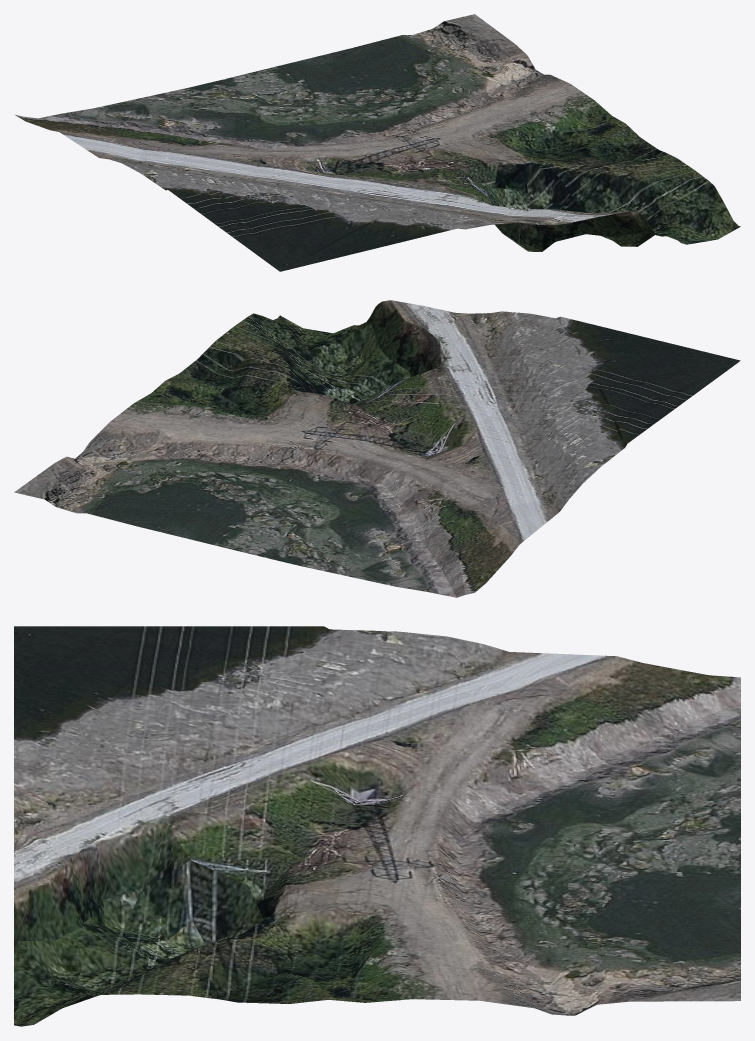
File: map_15_8177_13778.dae
3 renders of one model, top to bottom at view 1: azimuth 30°, elevation 25°; view 2: azimuth 150°, elevation 25°; view 3: azimuth 270°, elevation 25°, orthographic. The views are drawn at different scales.
Visible parts, largest first — view 1: Ter0; view 2: Ter0; view 3: Ter0.
Boxes of the visible parts, x1,y1,x2,y2 form: Ter0: (15, 14, 740, 271); Ter0: (14, 300, 740, 597); Ter0: (14, 626, 740, 1026).
Size of the model in its own units: 63.87 by 63.88 by 11.91.
Materials: 3 (3 with a texture image).
